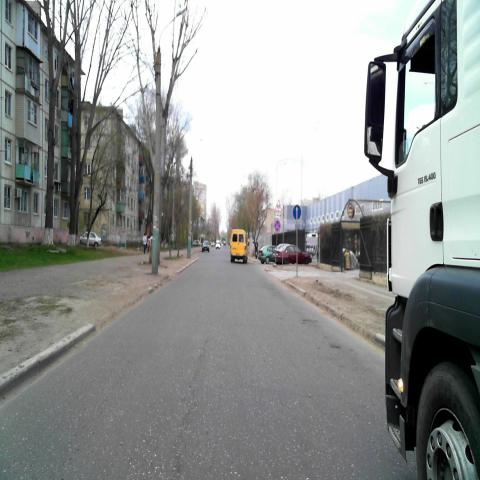4_1_1: (292, 203, 301, 220)
